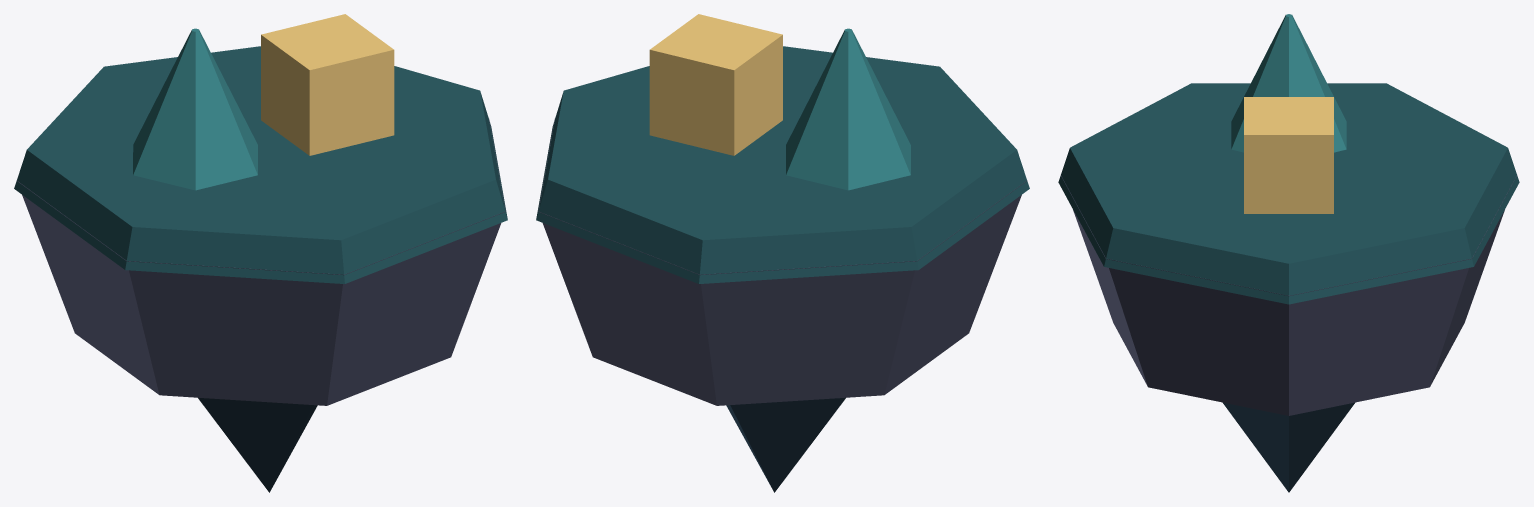
File: FloatingIslet.obj
The picture shows the model from 3 angles, left to right: view 1: azimuth 30°, elevation 25°; view 2: azimuth 150°, elevation 25°; view 3: azimuth 270°, elevation 25°; orthographic projection. The views are drawn at different scales.
Size of the model in its own units: 3.99 by 4.35 by 4.09.
